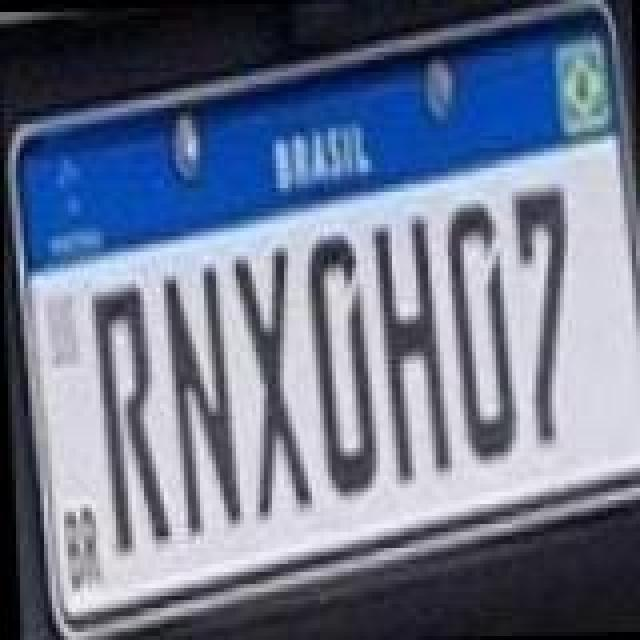7: (508, 180, 572, 436)
D: (304, 224, 380, 496), (438, 196, 514, 464)
H: (370, 212, 450, 488)
N: (158, 258, 238, 534)
R: (88, 274, 168, 554)
X: (230, 242, 310, 522)
